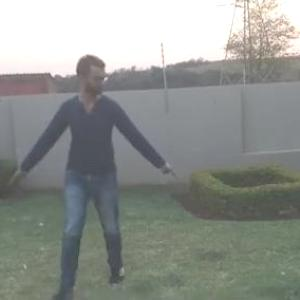land: (1, 58, 175, 287)
